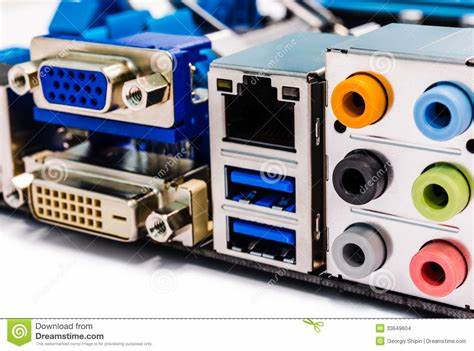Audio: (328, 144, 399, 210), (408, 157, 471, 227), (408, 233, 465, 304), (328, 67, 388, 131), (409, 79, 470, 141), (331, 223, 386, 281)
DVI: (32, 181, 138, 241)
Ethernet: (209, 67, 311, 152)
USB: (217, 162, 309, 213), (214, 218, 311, 262)
VGA: (35, 56, 121, 117)
